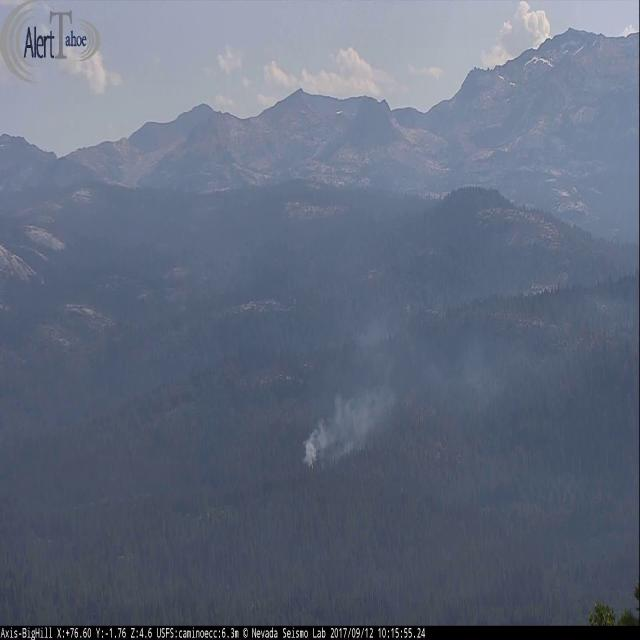smoke: (303, 230, 640, 469)
